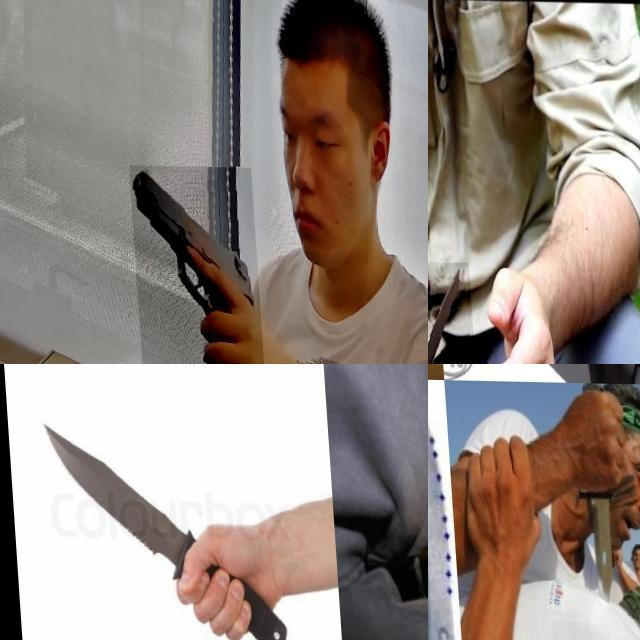-: (30, 412, 237, 626), (11, 364, 193, 469), (428, 376, 476, 640), (562, 440, 626, 606), (428, 380, 467, 608), (428, 382, 465, 611), (350, 364, 428, 462), (428, 258, 495, 364), (428, 364, 500, 409), (538, 364, 560, 385)
gun-knife-thesis - v11 Yolov5 augmented: (126, 164, 261, 364)
